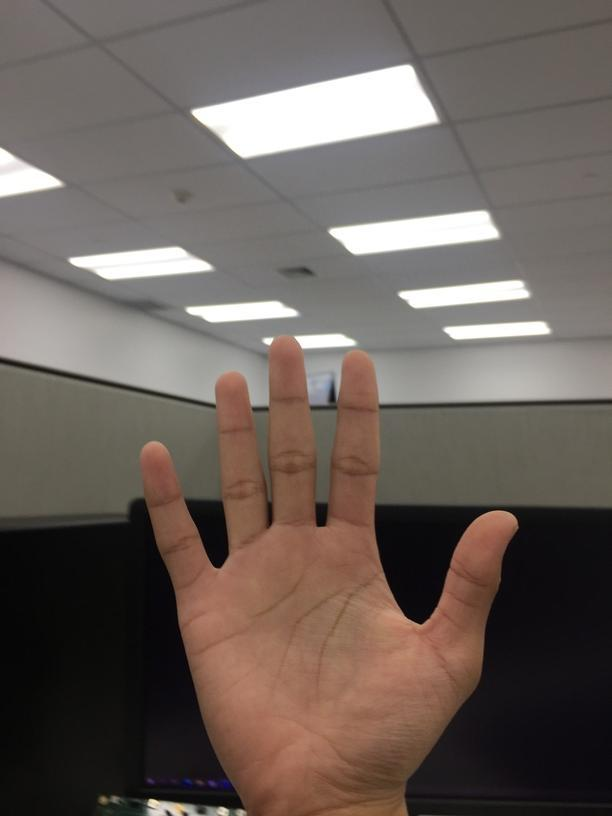hand: (134, 337, 524, 816)
